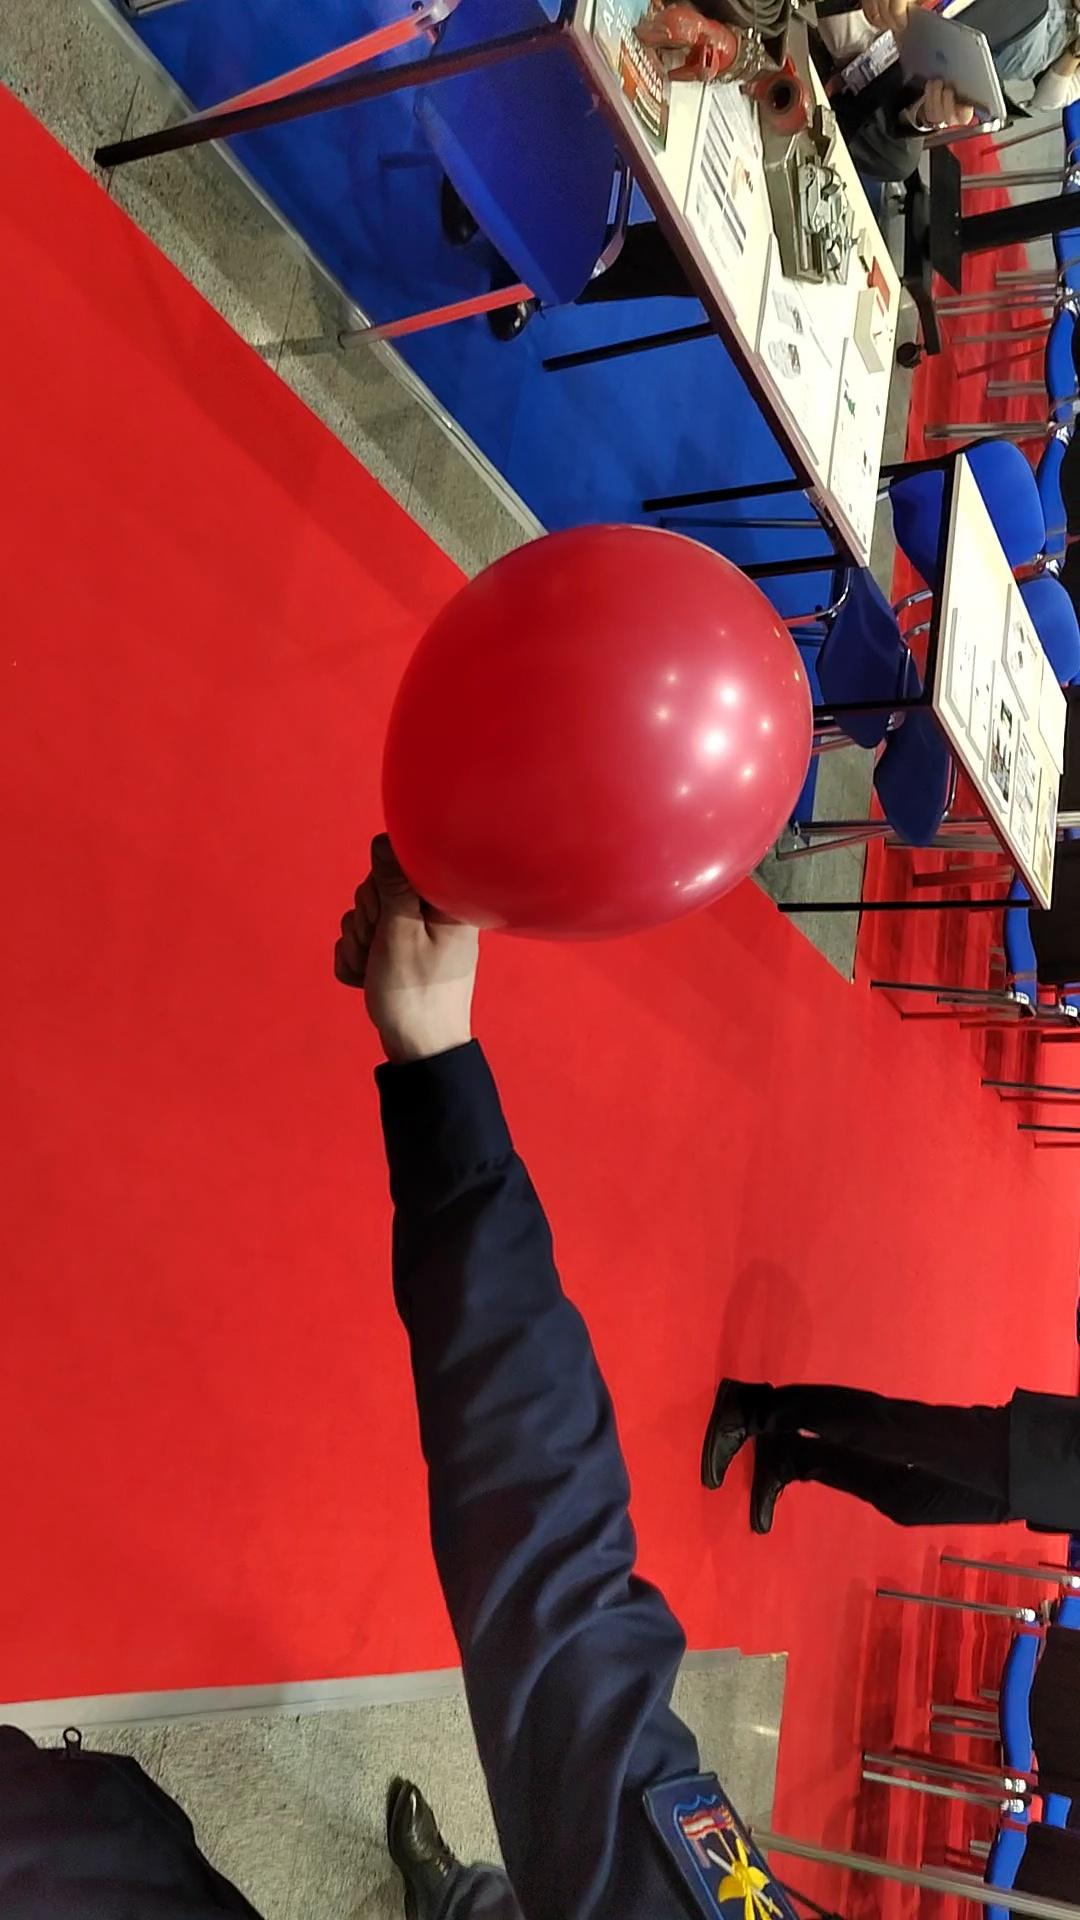red: (377, 510, 829, 957)
